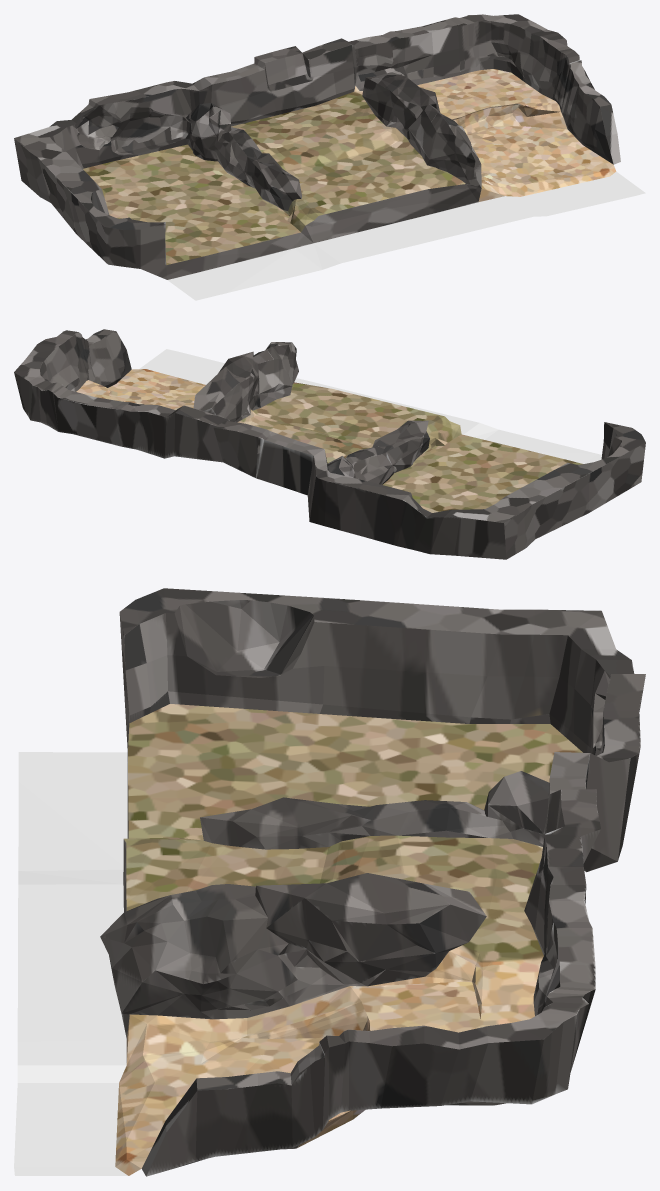
Rendered from WIL_FirstLevelTextured (1).fbx.
3 views of the same model, one above another, from view 1: azimuth 30°, elevation 25°; view 2: azimuth 150°, elevation 25°; view 3: azimuth 270°, elevation 25° (orthographic). The views are drawn at different scales.
Parts seen in each view (by area): view 1: Landscape; view 2: Landscape; view 3: Landscape.
Part boxes in pixels (bbox=[...]): Landscape: bbox=[14, 14, 645, 300]; Landscape: bbox=[14, 329, 645, 559]; Landscape: bbox=[14, 588, 645, 1176].
Size of the model in its own units: 74260 by 11636 by 40547.
Materials: 1 (1 with a texture image).
